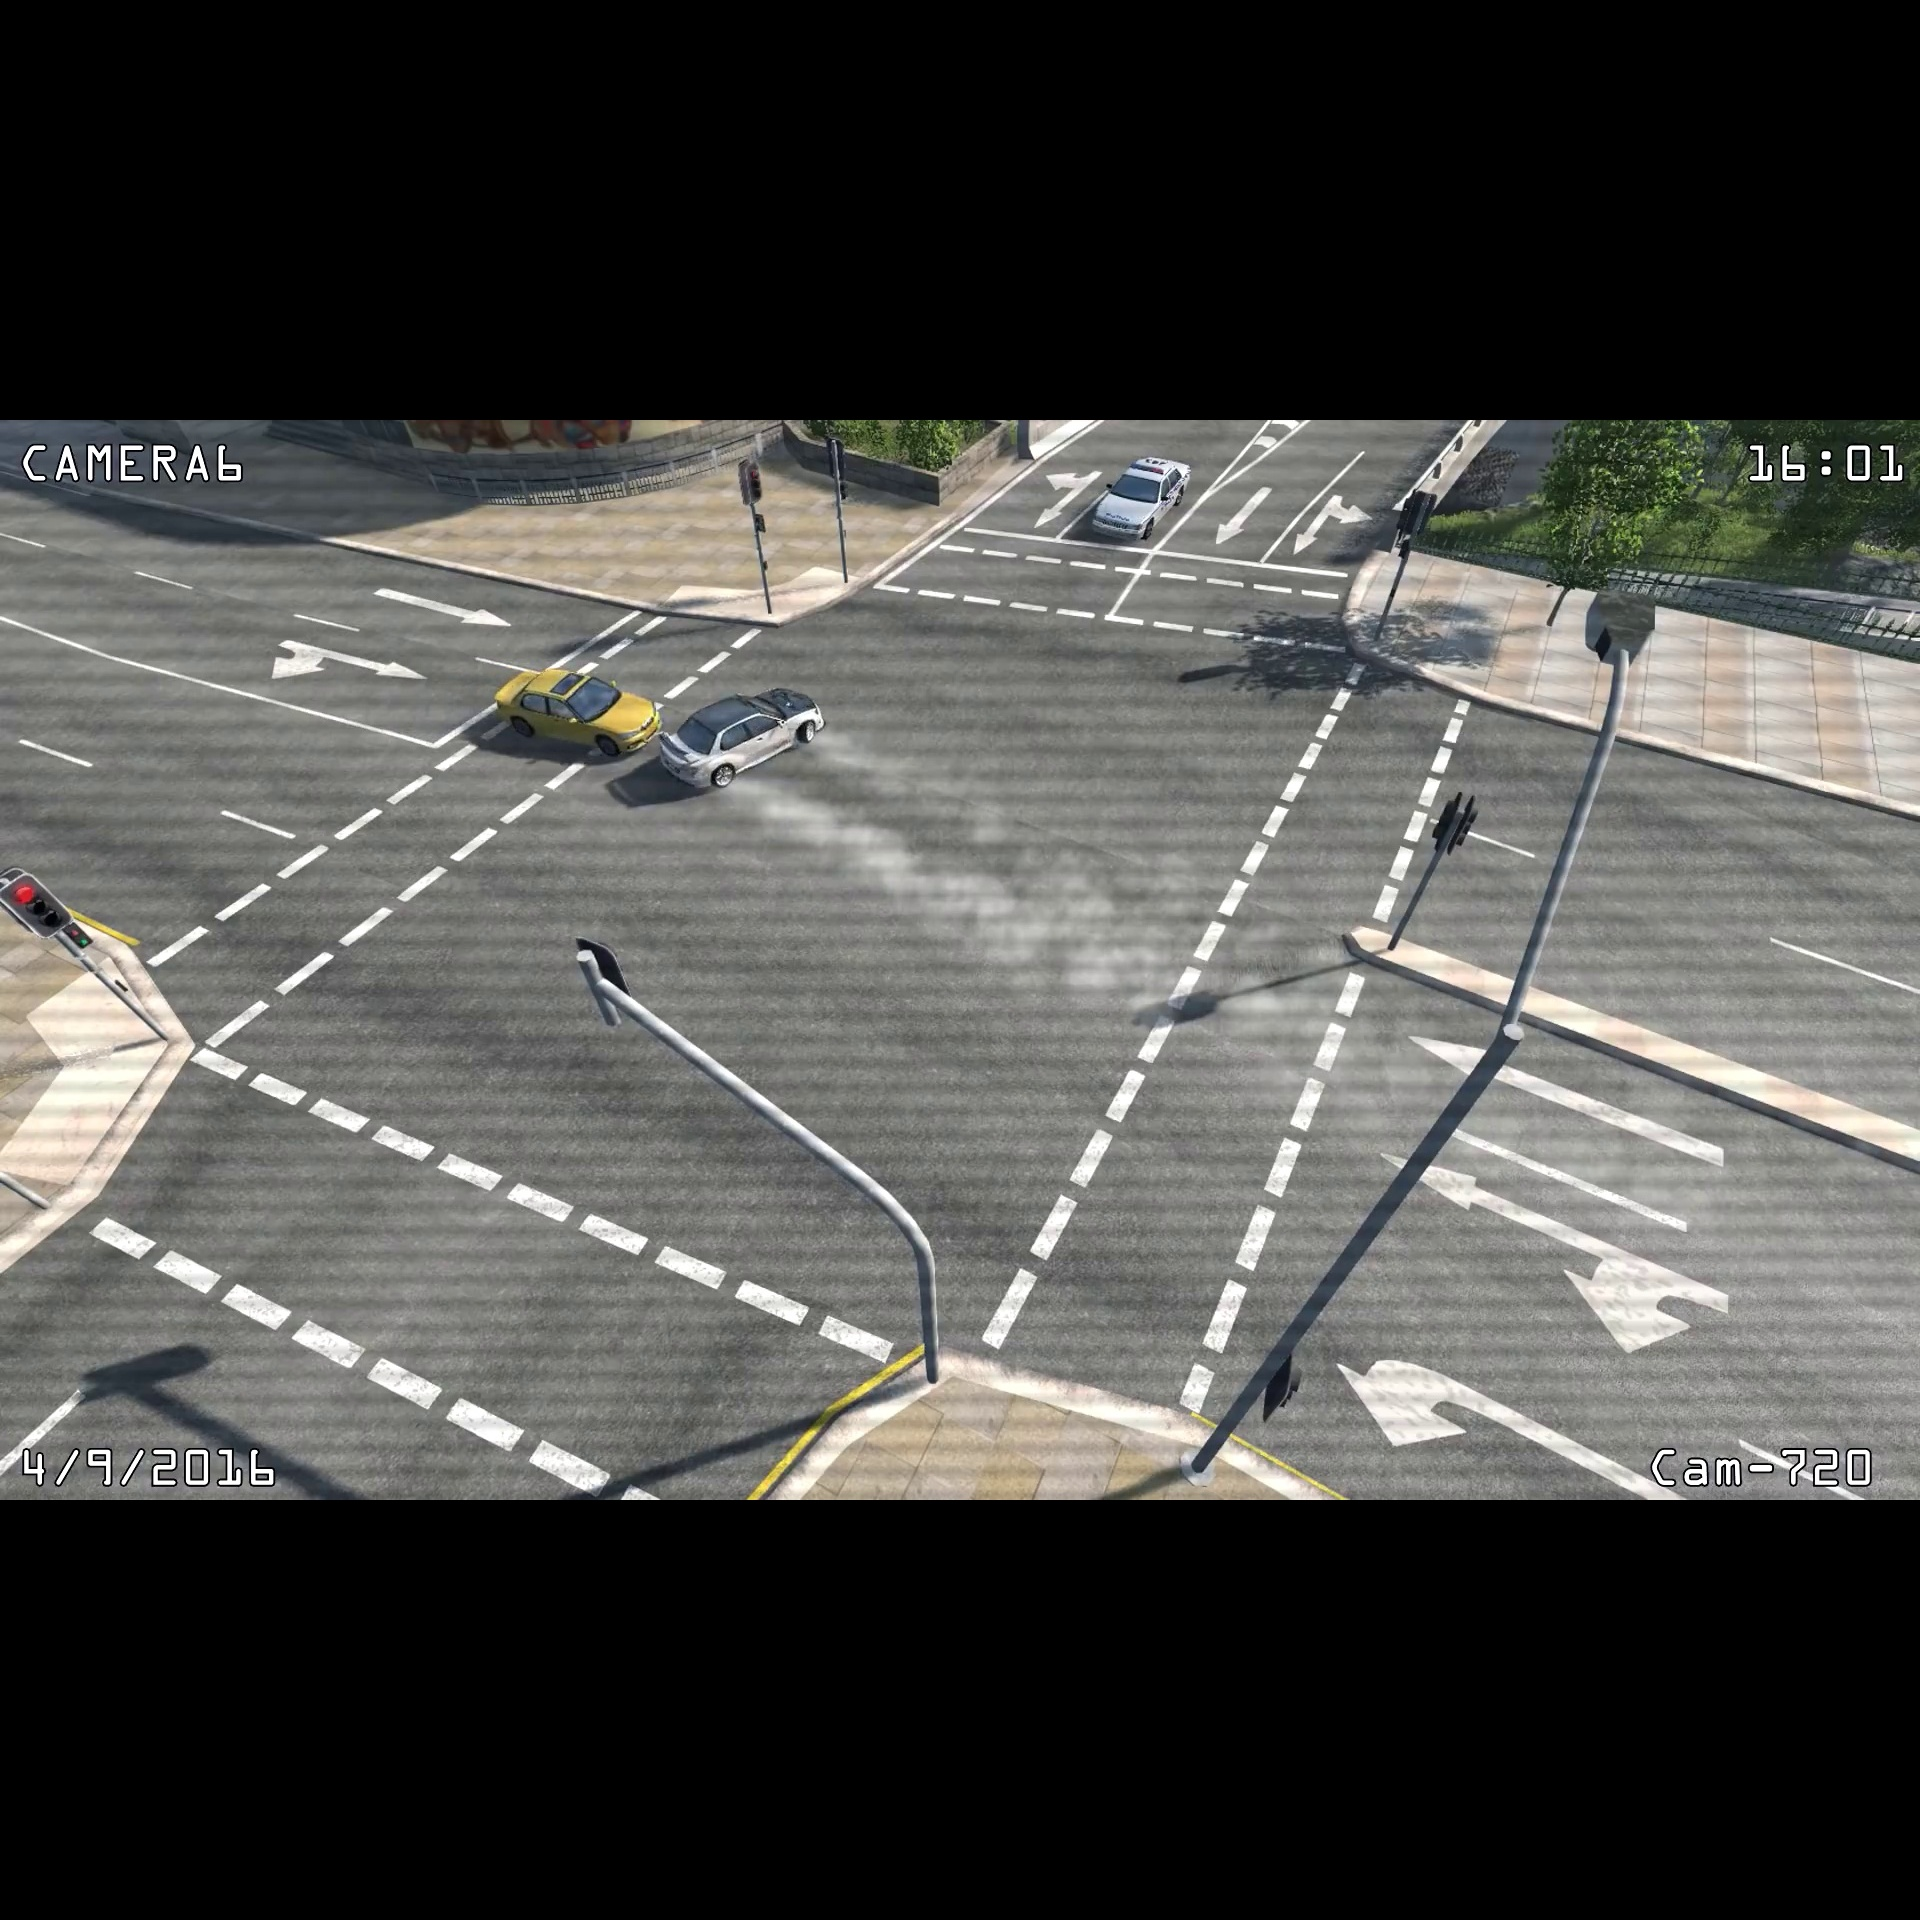vehicle: (654, 682, 825, 802), (484, 663, 663, 760), (1088, 448, 1201, 549)
